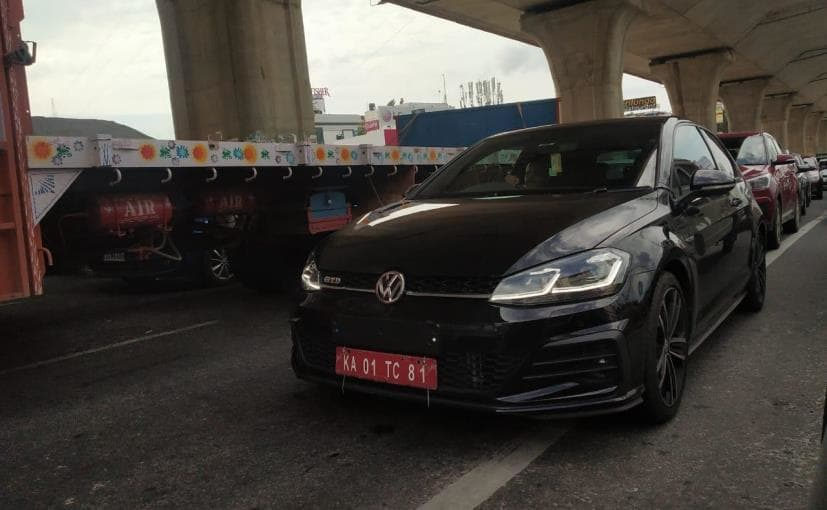number_plate: (324, 339, 445, 391)
